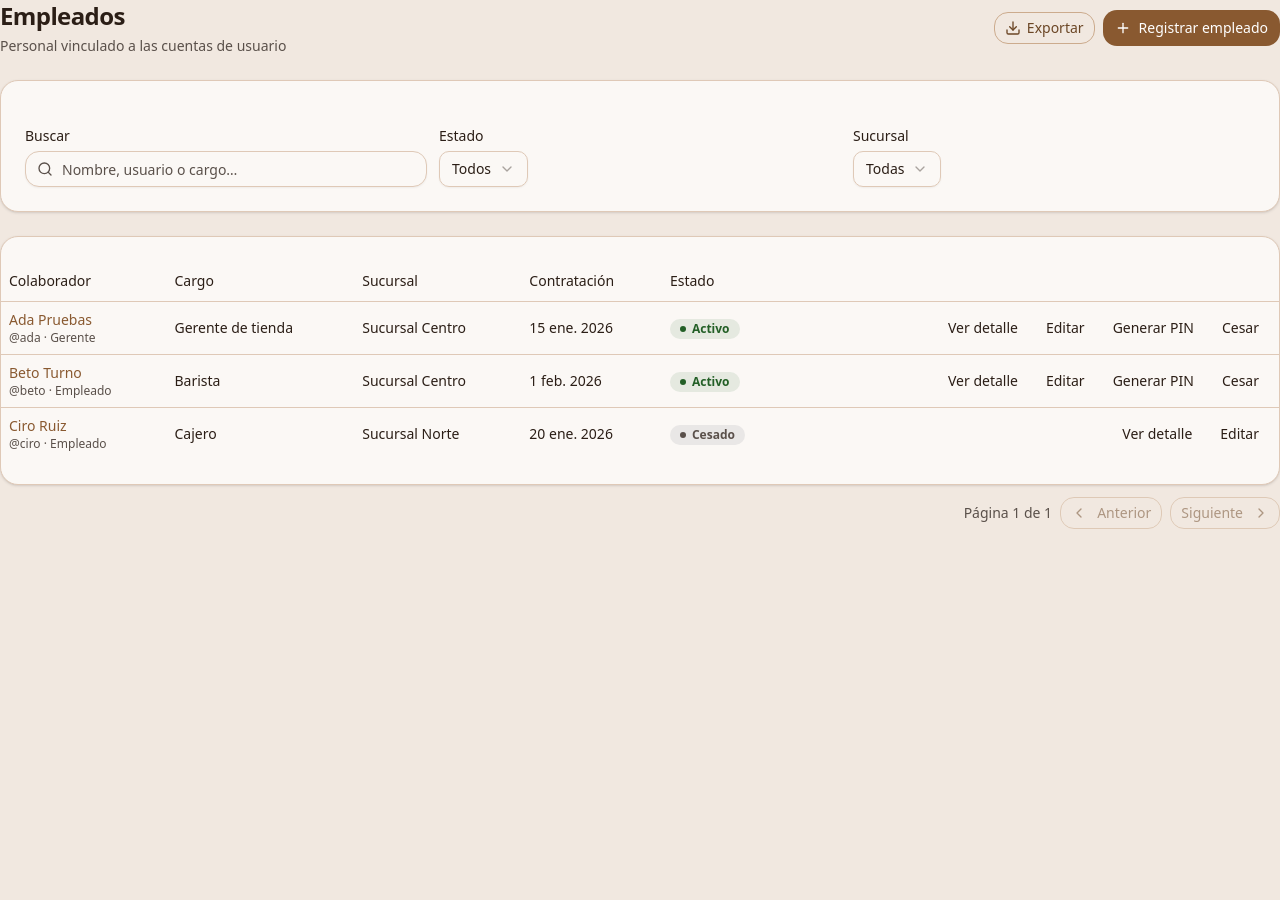
Test: Gestión de empleados › genera un PIN de marcación de un solo uso
The width and height of the screenshot is (1280, 900).
Click the button "Generar PIN" in the row of "Beto Turno" at (1153, 380), box [1101, 364, 1206, 396]
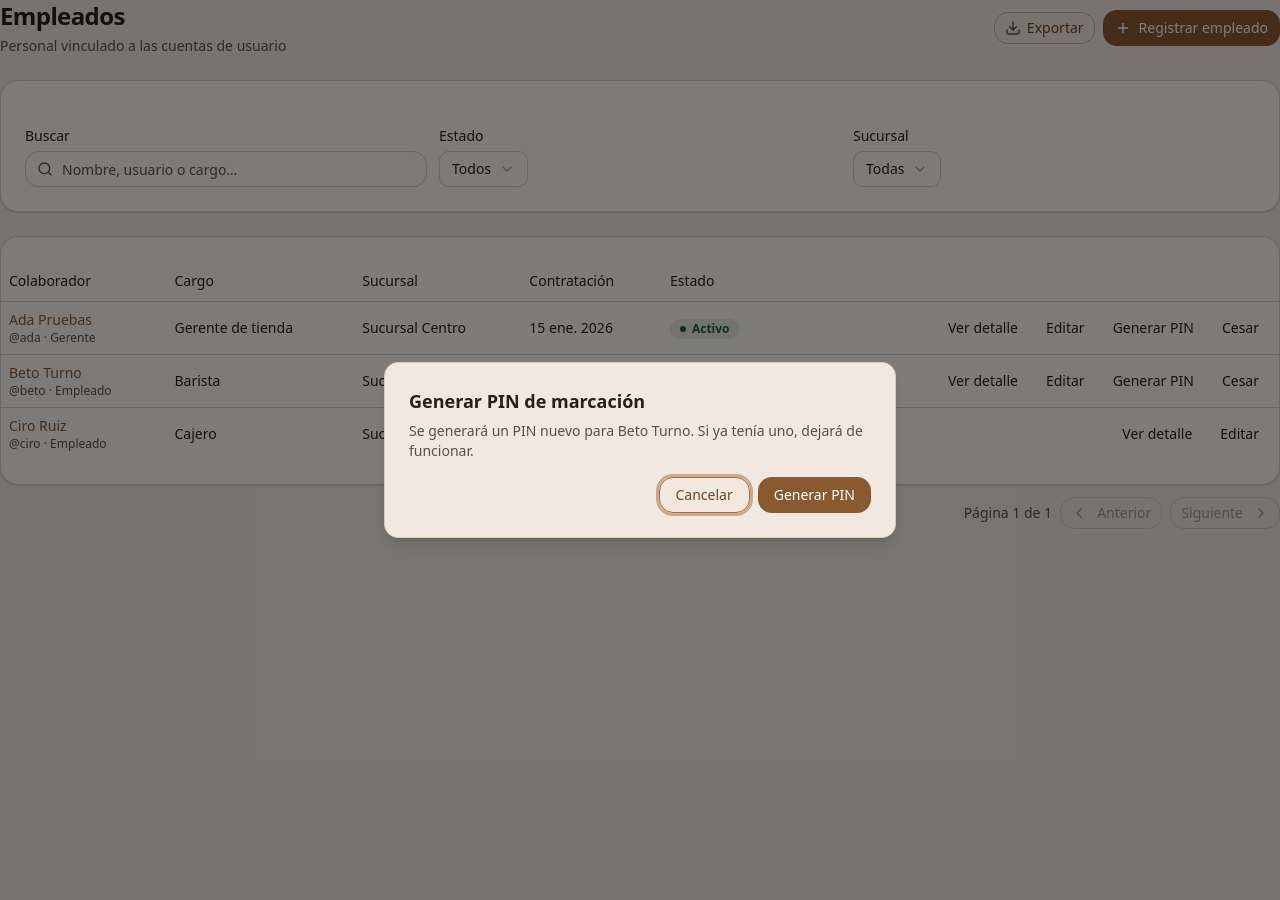
Click the button "Generar PIN" at (814, 495), box [758, 477, 871, 513]
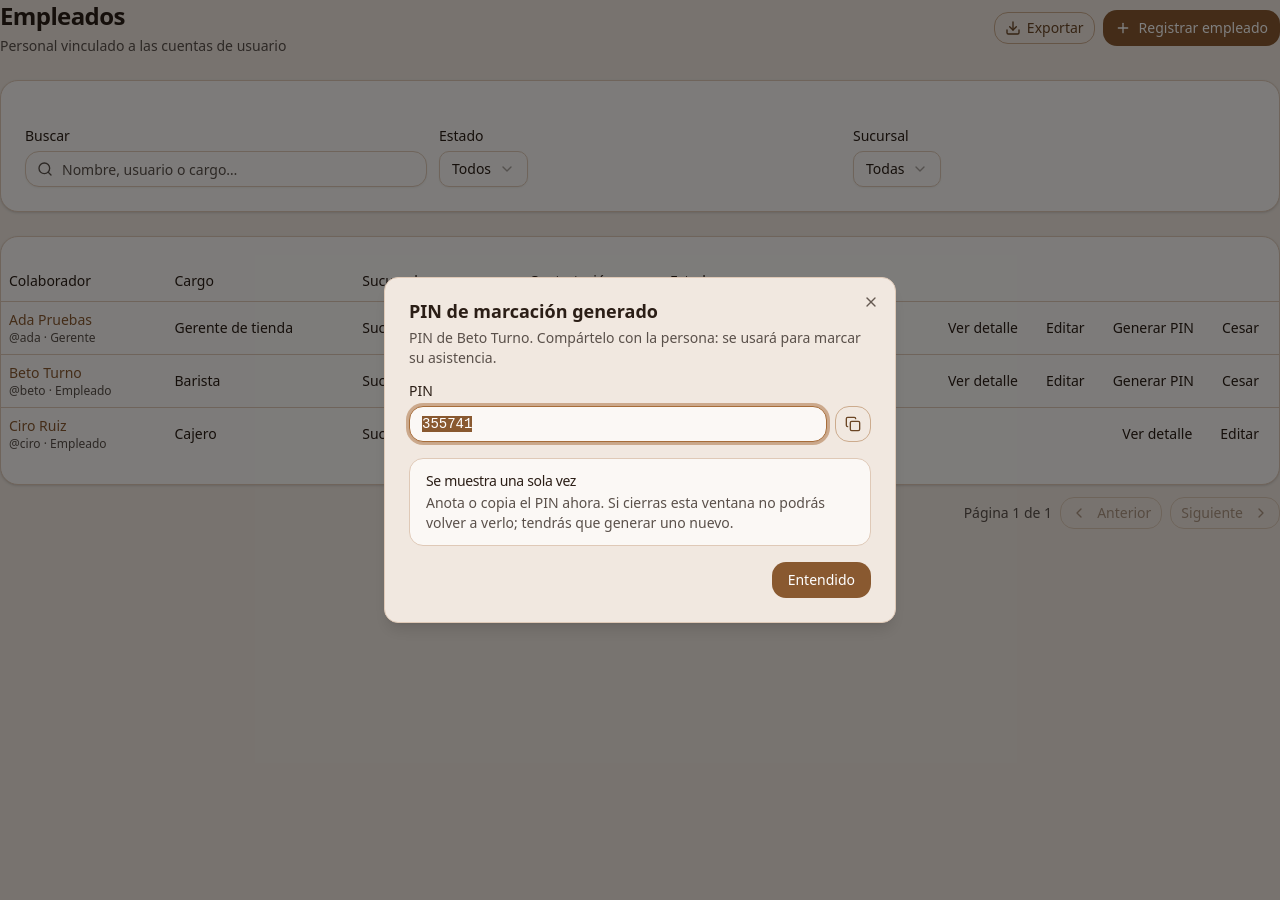
Expected: the text "Se muestra una sola vez" is shown, [426, 471, 576, 490]
